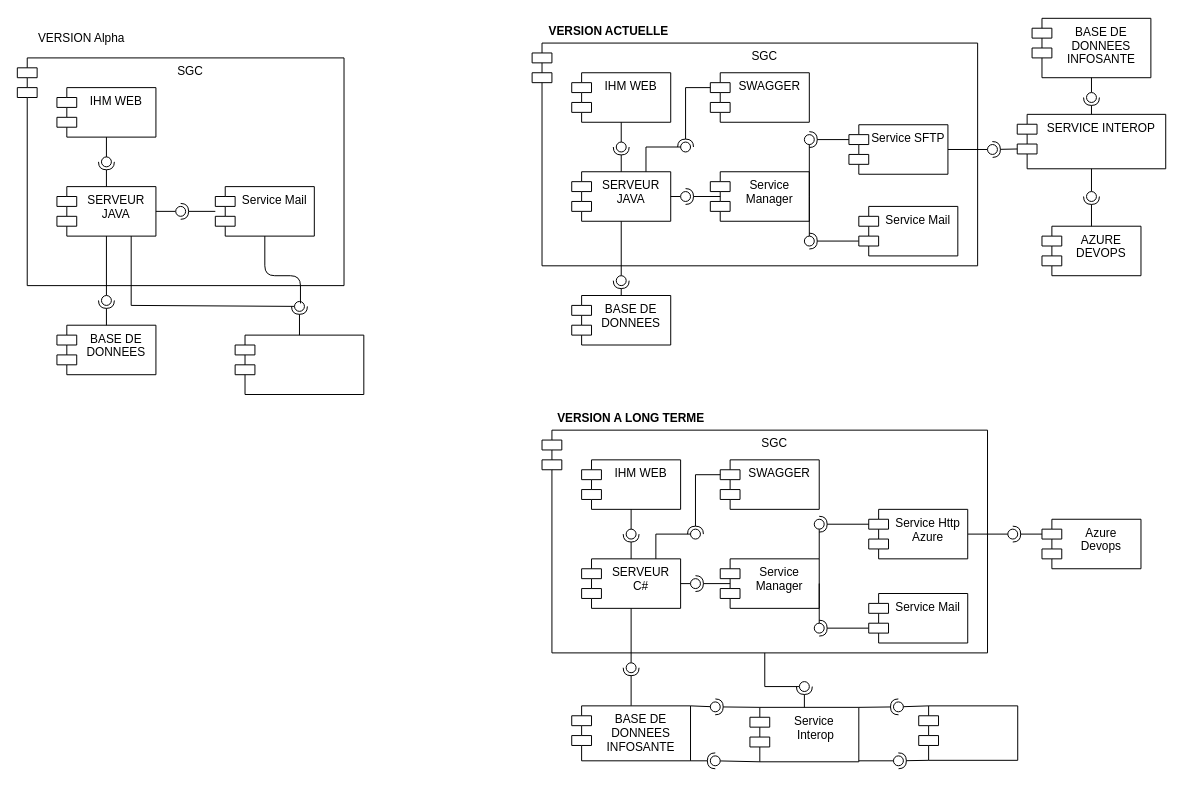
The diagram is 1183 pixels wide and 786 high, and some of its shapes have lost their labels. Each missing label, with the centre of its shape:
"Composant Externe" goes at point (968, 732).
"LIB_AvsoftJar" goes at point (299, 364).
